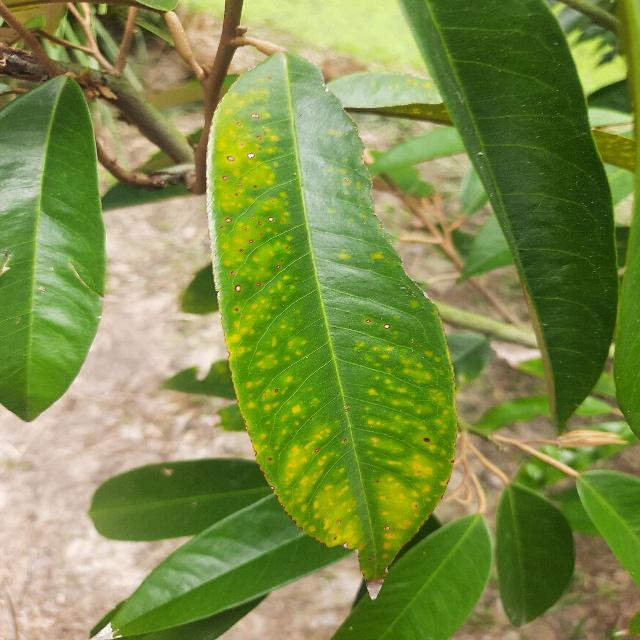Leaf Spot: (199, 39, 467, 609)
